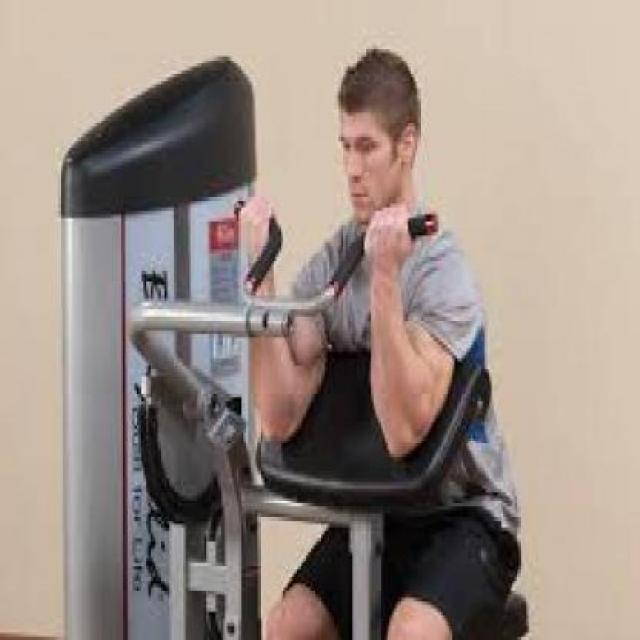arm curl machine: (60, 192, 540, 640)
